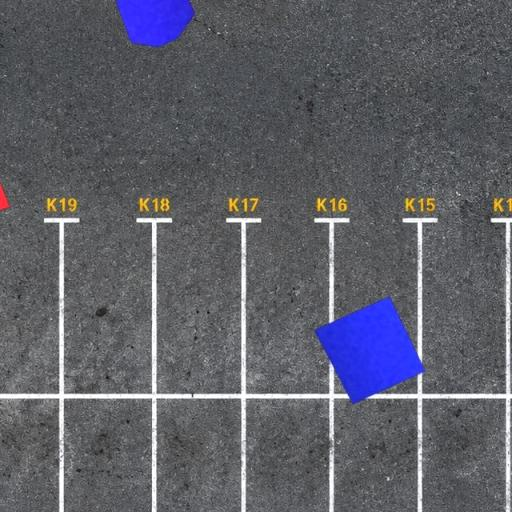BLUE_SQUARE: (313, 295, 426, 405)
